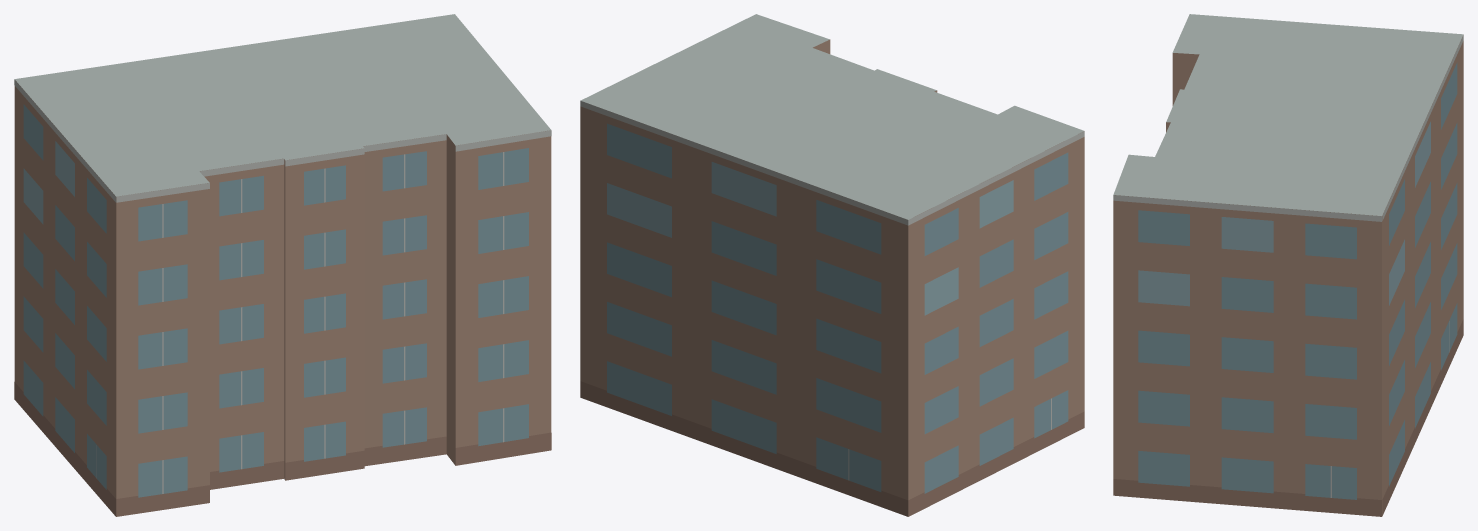
File: survey-upis-32792087.glb
The picture shows the model from 3 angles, left to right: view 1: azimuth 30°, elevation 25°; view 2: azimuth 150°, elevation 25°; view 3: azimuth 270°, elevation 25°; orthographic projection. The views are drawn at different scales.
Visible parts, largest first — view 1: survey-upis-32792087.tmp; view 2: survey-upis-32792087.tmp; view 3: survey-upis-32792087.tmp.
Part boxes in pixels (left/top/right/bottom): survey-upis-32792087.tmp: left=14, top=14, right=551, bottom=516; survey-upis-32792087.tmp: left=580, top=14, right=1084, bottom=516; survey-upis-32792087.tmp: left=1113, top=14, right=1463, bottom=516.
Size of the model in its own units: 18.32 by 12.7 by 13.42.
